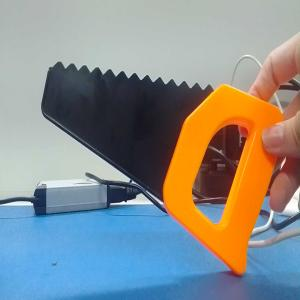serrote: (40, 59, 262, 274)
